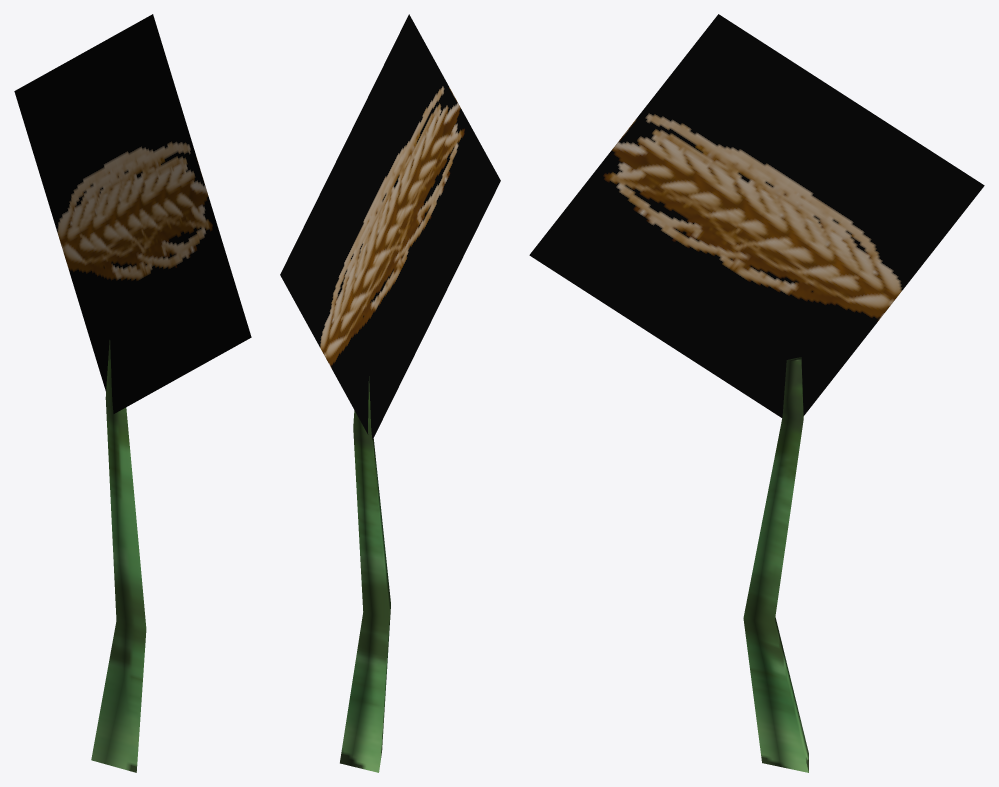
The model's file is zitomo.fbx.
3 renders of one model, left to right at view 1: azimuth 30°, elevation 25°; view 2: azimuth 150°, elevation 25°; view 3: azimuth 270°, elevation 25°, orthographic. The views are drawn at different scales.
Visible parts, largest first — view 1: Plane.011, Cube.053; view 2: Plane.011, Cube.053; view 3: Plane.011, Cube.053.
Part boxes in pixels (bbox=[...]): Plane.011: bbox=[14, 14, 251, 413]; Cube.053: bbox=[91, 340, 146, 772]; Plane.011: bbox=[280, 14, 500, 439]; Cube.053: bbox=[340, 376, 390, 772]; Plane.011: bbox=[529, 14, 984, 417]; Cube.053: bbox=[743, 357, 808, 772].
Bounding box in the file's own units: 28.67 × 504 × 279.
